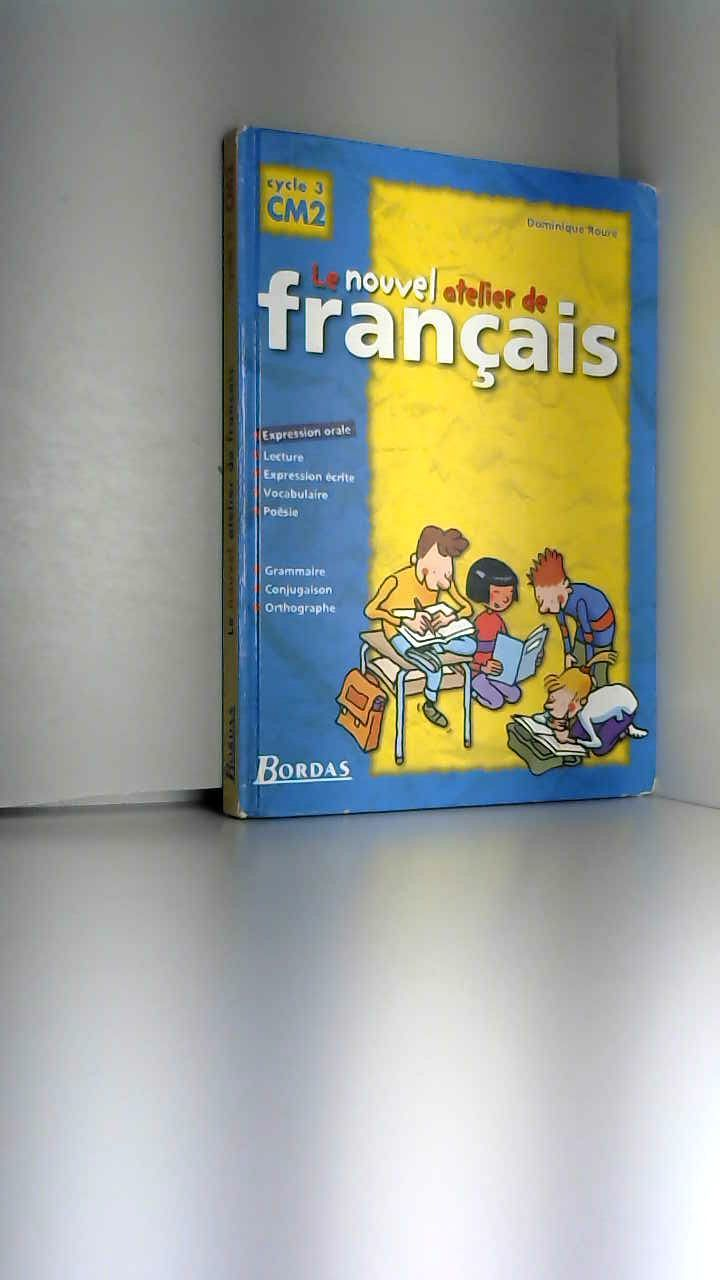book: (190, 100, 718, 847)
